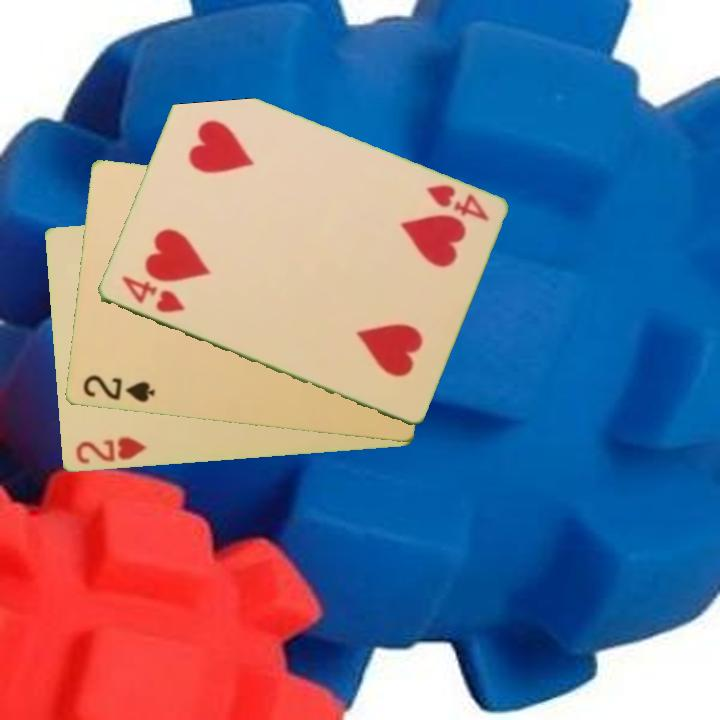2h: (71, 433, 149, 467)
2s: (79, 372, 158, 406)
4h: (117, 272, 187, 316), (422, 181, 491, 225)
